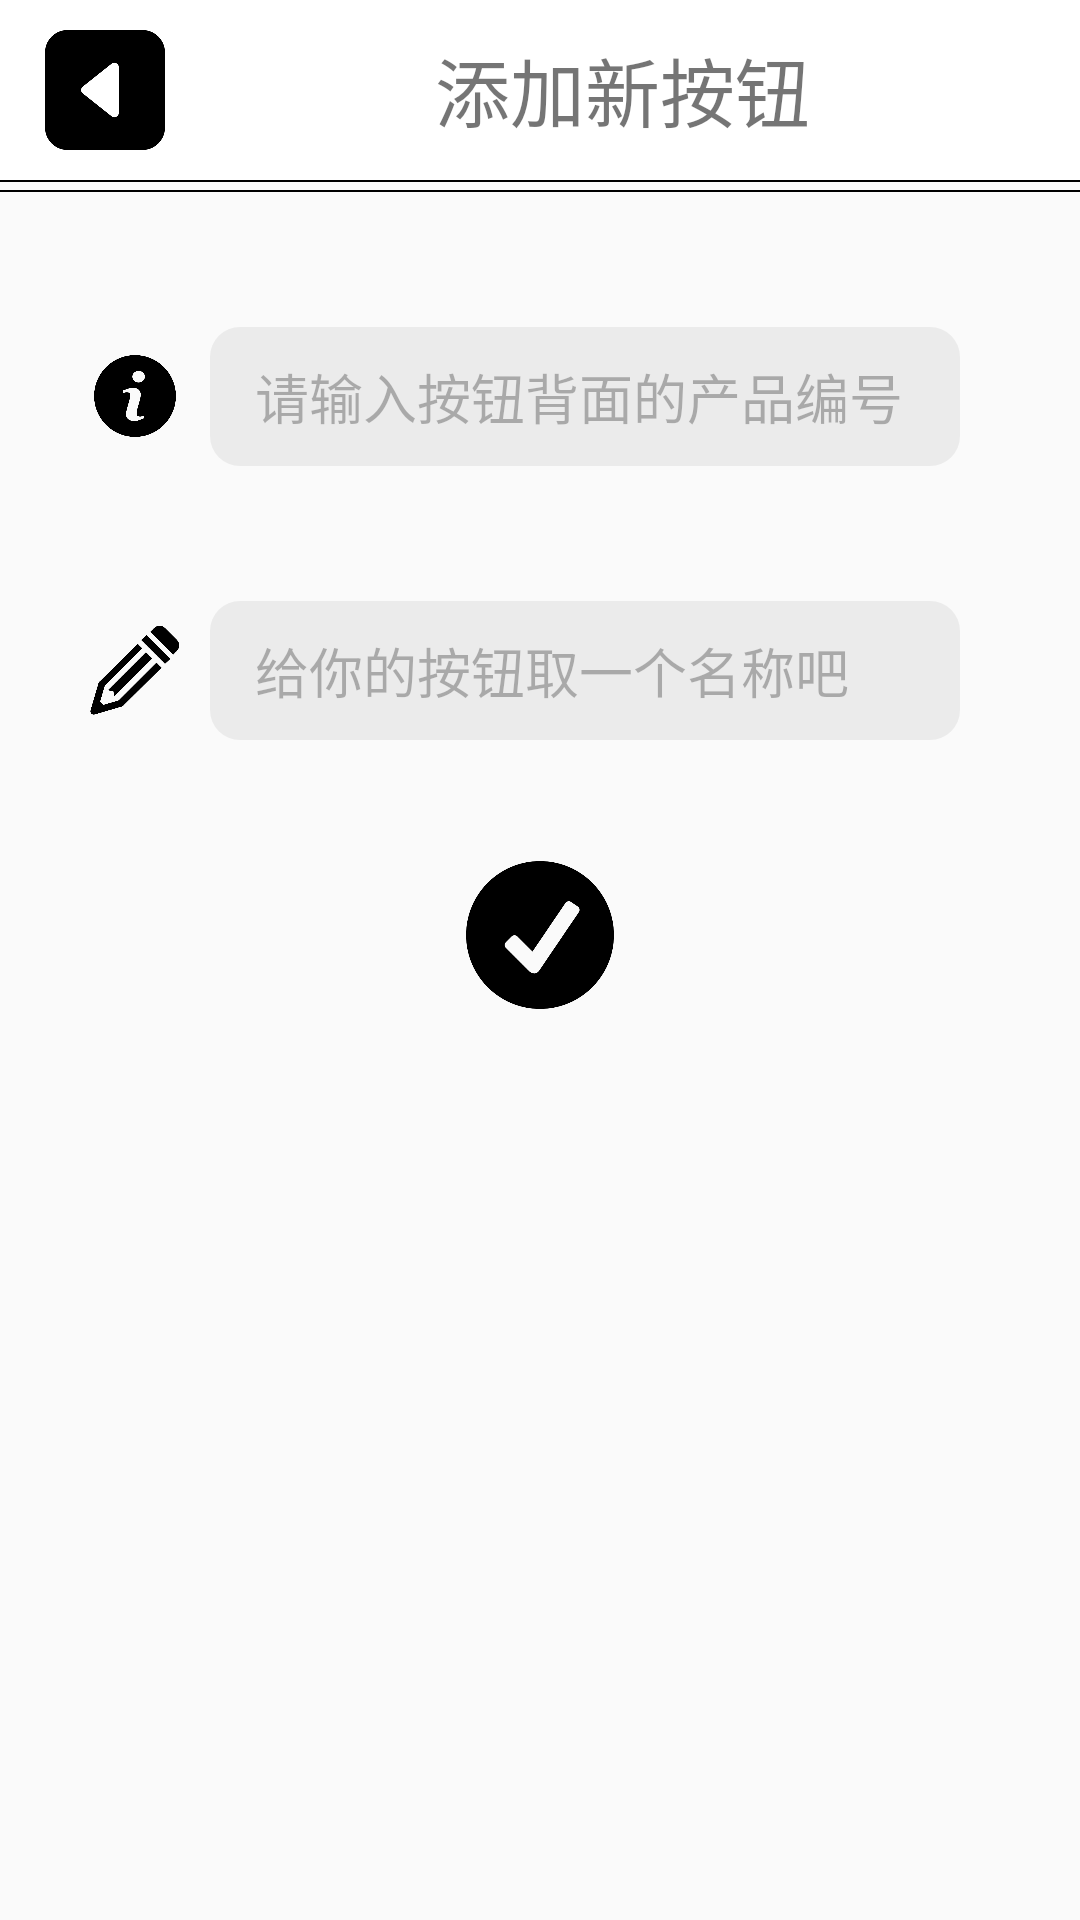

Where icons sit on this 1080px×1920px app screen, as box(x1, y1, x2, y2):
back: box(45, 30, 165, 150)
edit: box(90, 626, 179, 715)
info: box(94, 355, 176, 437)
